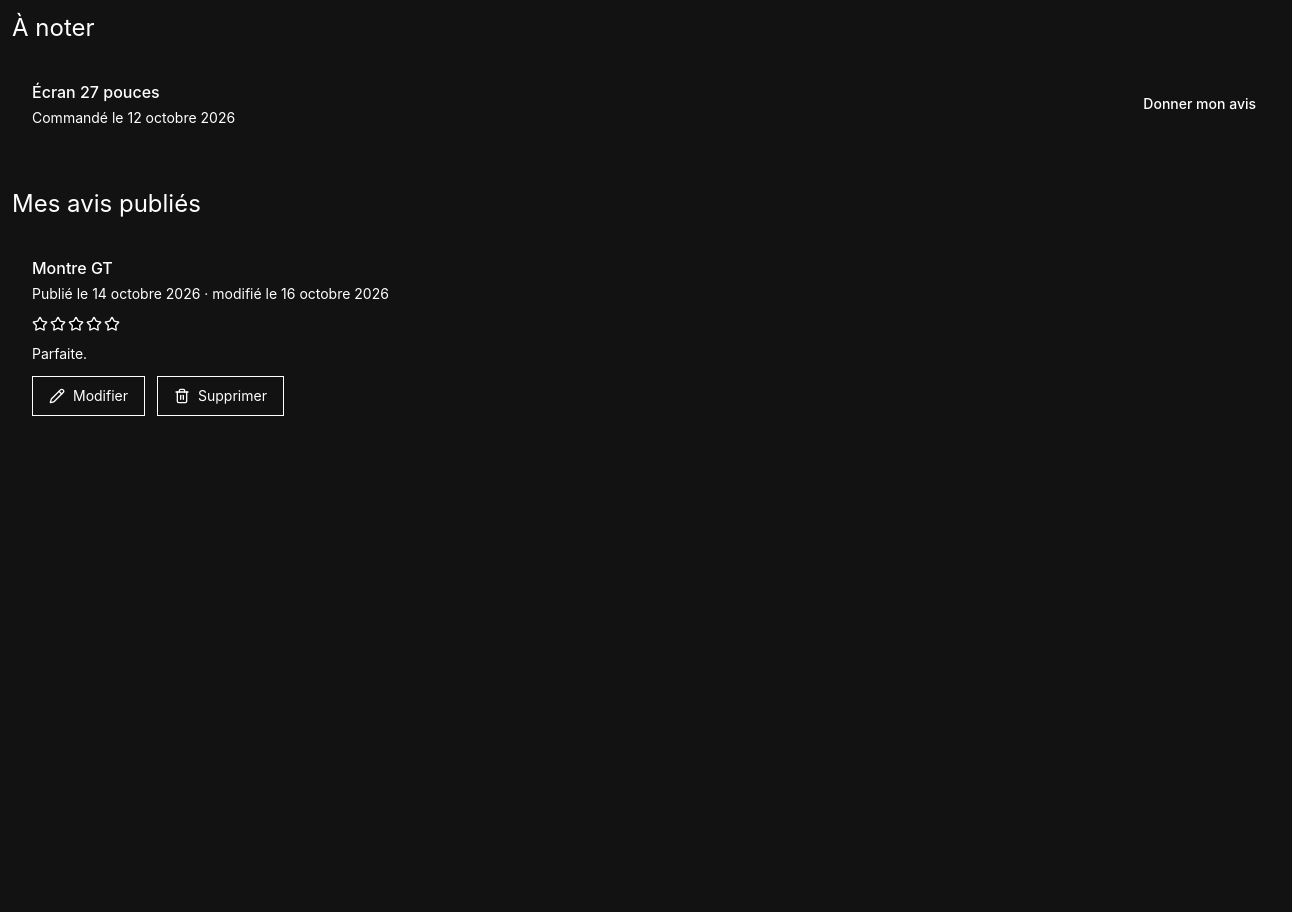
Scenario: review form › keeps the rating and the comment when the moderation refuses it
Click the button with aria-label "Donner ton avis sur Écran 27 pouces".
click(1200, 104)  # box top-left (1127, 86), bottom-right (1272, 122)
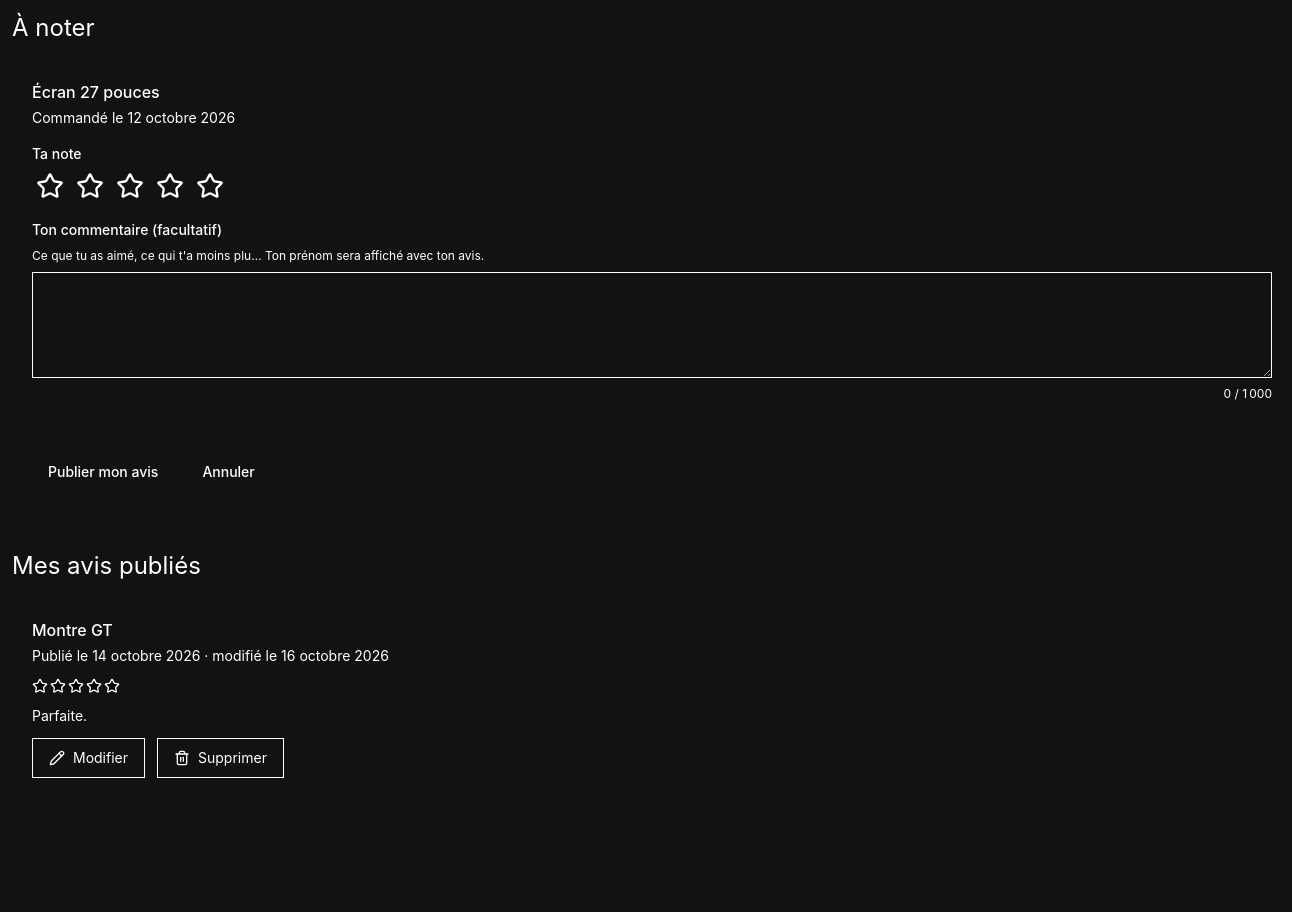
Click the radio button named "4 étoiles".
click(170, 186)  # box top-left (152, 168), bottom-right (188, 204)
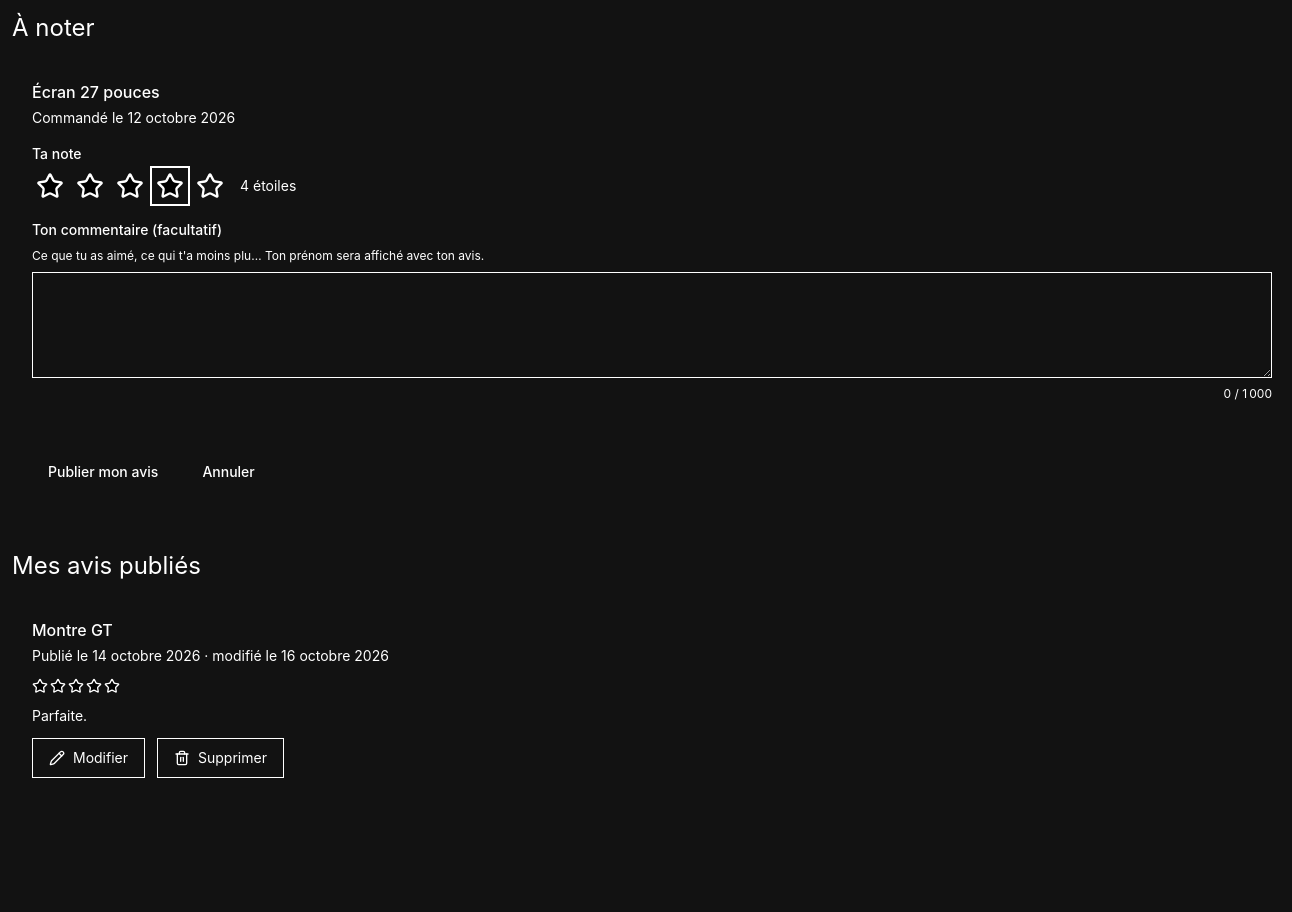
Type "Mauvais mot" into the text box labelled "Ton commentaire (facultatif)".
click(652, 325); type("Mauvais mot")  # box top-left (32, 272), bottom-right (1272, 378)
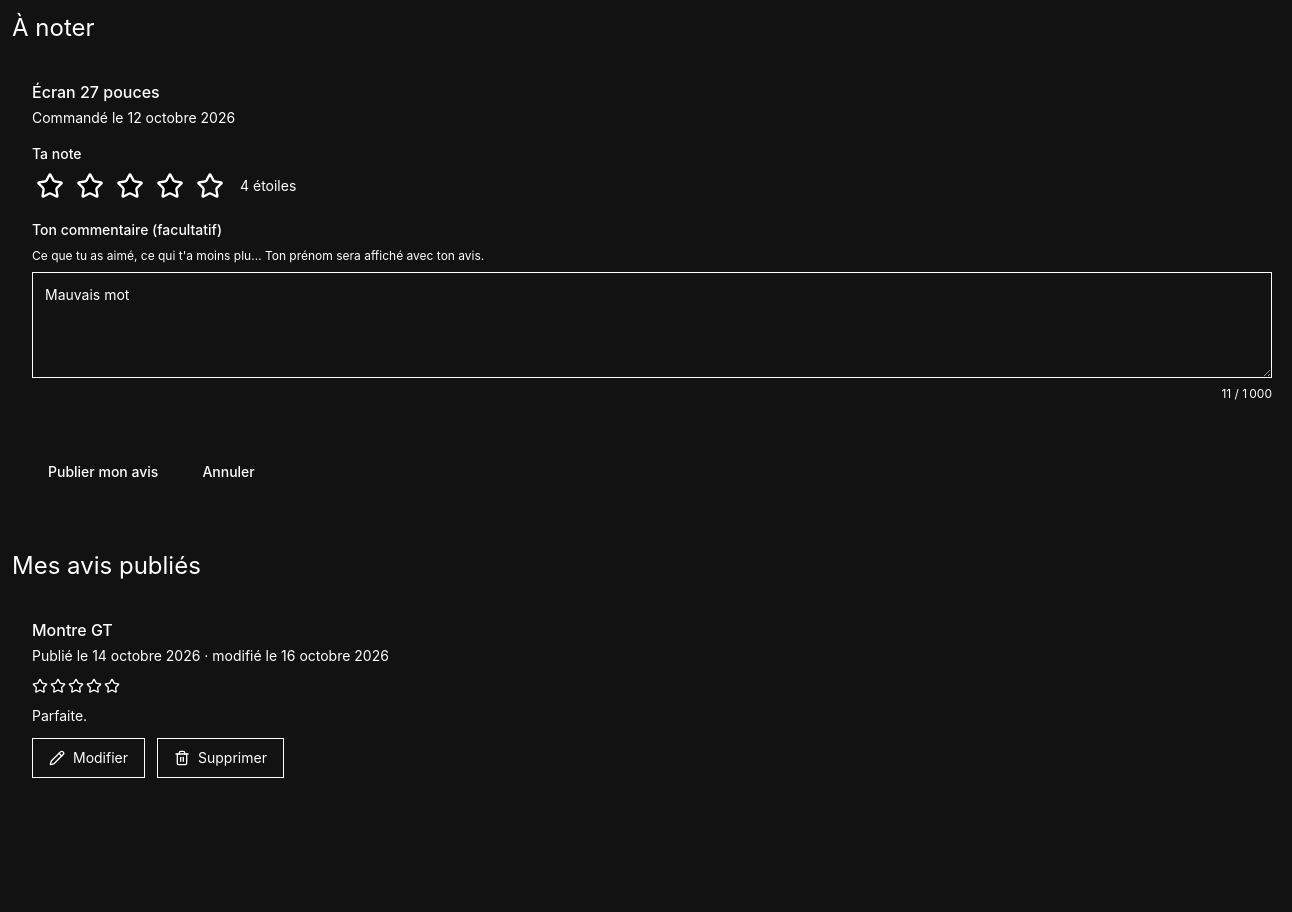
Click the button "Publier mon avis".
click(103, 472)  # box top-left (32, 454), bottom-right (174, 490)
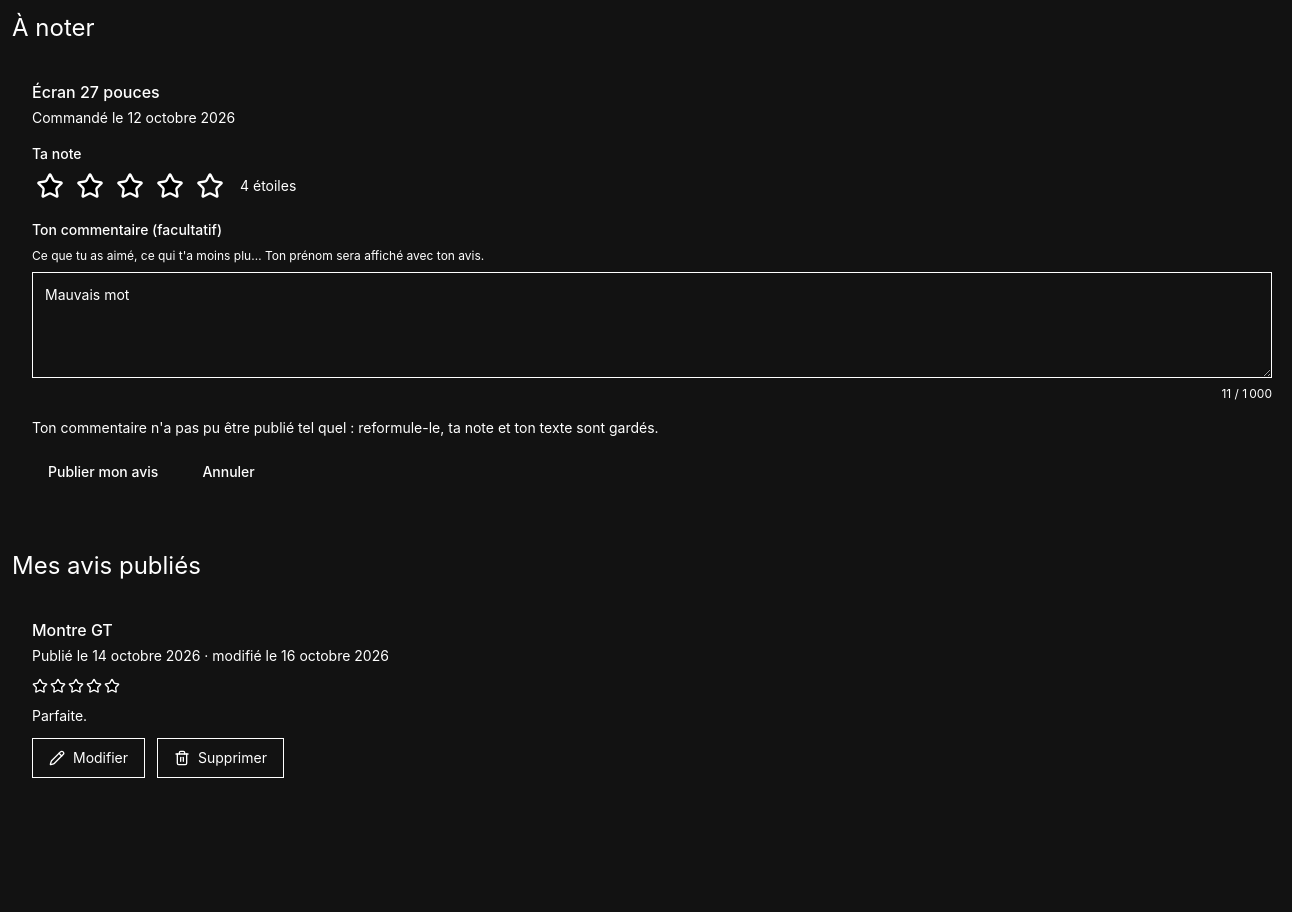
Now the radio button named "4 étoiles" is checked, box top-left (152, 168), bottom-right (188, 204)
Now the text "reformule-le" is shown, box top-left (32, 419), bottom-right (659, 436)
